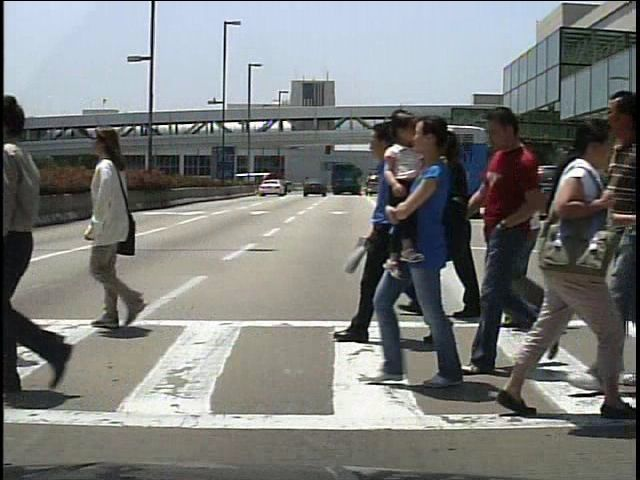person: (484, 111, 620, 427), (5, 79, 104, 402), (333, 119, 454, 347), (467, 102, 543, 378), (73, 122, 164, 346), (411, 130, 484, 322), (502, 140, 570, 333), (582, 168, 602, 218), (491, 163, 509, 216)
